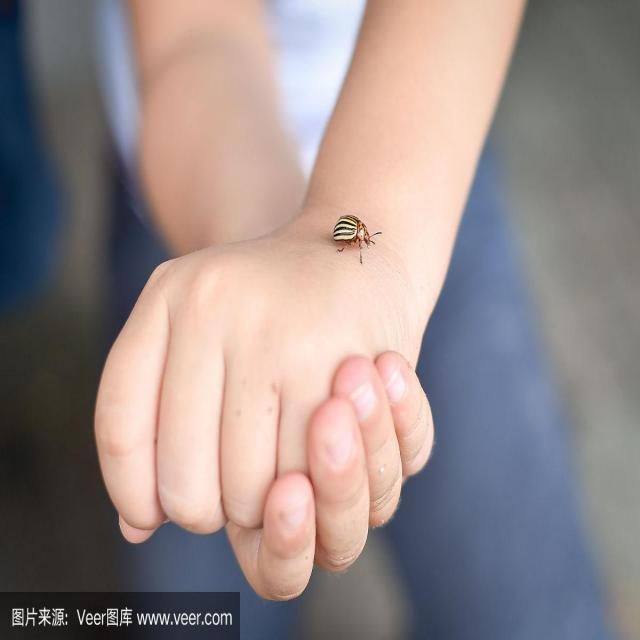ShuCaiHuaBanChong-Grown-: (330, 206, 372, 261)
